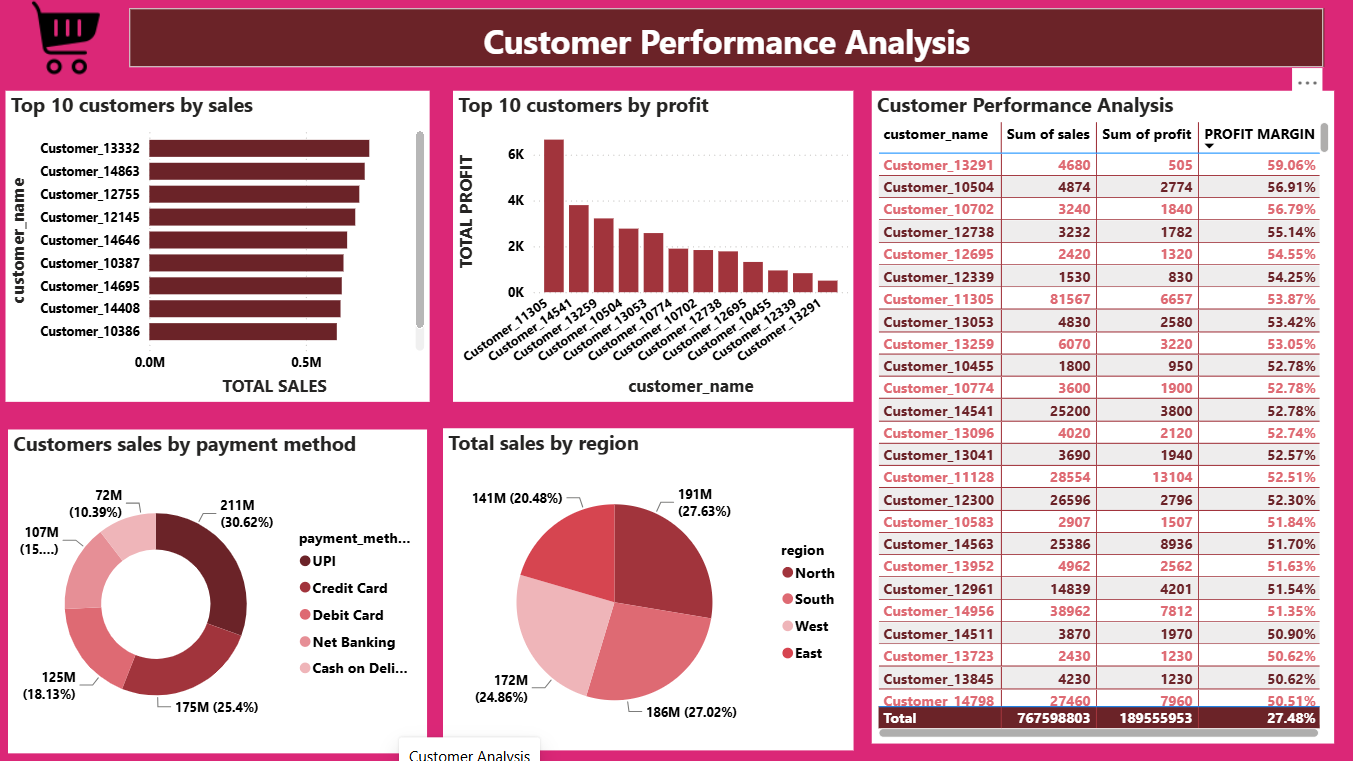

What the dashboard file says about the page in this screenshot:
{"tool":"powerbi","page":{"name":"Customer Analysis","canvas":[1280,720],"ordinal":2},"visuals":[{"type":"textbox","title":"Customer  Performance  Analysis","box":[123.1,10.9,1124.4,55.5],"z":0},{"type":"tableEx","title":"Customer Performance Analysis","fields":{"Values":["novacart.customer_name","Sum(novacart.sales)","Sum(novacart.profit)","novacart.PROFIT MARGIN"]},"box":[822.8,88.1,435.5,614.1],"z":1000},{"type":"clusteredColumnChart","title":"Top 10 customers by profit","fields":{"Category":["novacart.customer_name"],"Y":["novacart.TOTAL PROFIT"]},"box":[428.3,88.1,376.7,292.4],"z":2000},{"type":"clusteredBarChart","title":"Top 10 customers by sales","fields":{"Y":["novacart.TOTAL SALES"],"Category":["novacart.customer_name"]},"box":[7.5,88.1,399.2,292.4],"z":3000},{"type":"donutChart","title":"Customers sales by payment method","fields":{"Category":["novacart.payment_method"],"Y":["novacart.TOTAL SALES"]},"box":[9.4,406.7,394.6,304.6],"z":4000},{"type":"pieChart","title":"Total sales by region","fields":{"Category":["novacart.region"],"Y":["novacart.TOTAL SALES"]},"box":[419.1,406.4,386.2,303.2],"z":5000},{"type":"image","box":[24.1,3.6,78.4,70],"z":6000}]}

Visuals, with their boxes in screenshot pixels (x1, y1, x2, y2), scaled from the page's 1280x720 canvas onto the 1353x761 screenshot:
"Customer  Performance  Analysis" textbox: (x1=130, y1=12, x2=1319, y2=70)
"Customer Performance Analysis" tableEx: (x1=870, y1=93, x2=1330, y2=742)
"Top 10 customers by profit" clusteredColumnChart: (x1=453, y1=93, x2=851, y2=402)
"Top 10 customers by sales" clusteredBarChart: (x1=8, y1=93, x2=430, y2=402)
"Customers sales by payment method" donutChart: (x1=10, y1=430, x2=427, y2=752)
"Total sales by region" pieChart: (x1=443, y1=430, x2=851, y2=750)
image: (x1=25, y1=4, x2=108, y2=78)
